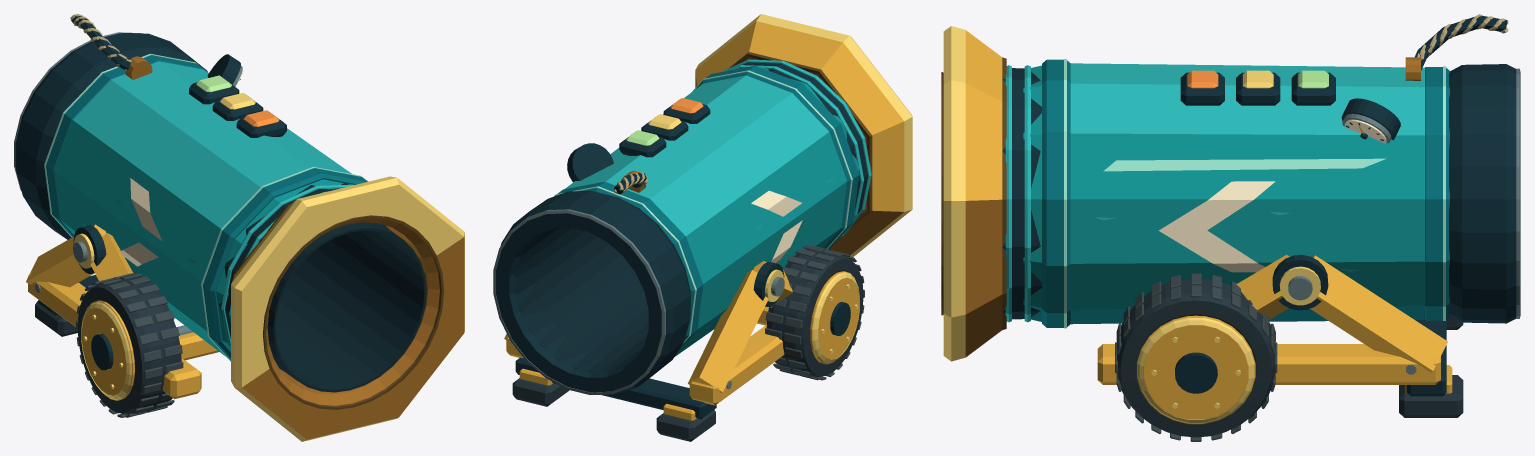
Rendered from ball-cannon.glb.
3 renders of one model, left to right at view 1: azimuth 30°, elevation 25°; view 2: azimuth 150°, elevation 25°; view 3: azimuth 270°, elevation 25°, orthographic. The views are drawn at different scales.
Visible parts, largest first — view 1: barrel_recoil_mesh, wheel_left_mesh, chassis_mesh, pressure_gauge_mesh; view 2: barrel_recoil_mesh, chassis_mesh, wheel_left_mesh, pressure_gauge_mesh; view 3: barrel_recoil_mesh, wheel_right_mesh, chassis_mesh, pressure_gauge_mesh, indicator_2, indicator_0, indicator_1.
Part boxes in pixels (box(x1,y1,x2,y2)): barrel_recoil_mesh: box(14, 14, 464, 441); wheel_left_mesh: box(76, 273, 183, 417); chassis_mesh: box(26, 224, 218, 399); pressure_gauge_mesh: box(207, 54, 242, 86); barrel_recoil_mesh: box(493, 14, 912, 394); chassis_mesh: box(504, 261, 792, 441); wheel_left_mesh: box(765, 245, 864, 380); pressure_gauge_mesh: box(567, 143, 613, 182); barrel_recoil_mesh: box(941, 14, 1520, 361); wheel_right_mesh: box(1115, 273, 1277, 441); chassis_mesh: box(1097, 255, 1463, 417); pressure_gauge_mesh: box(1341, 98, 1400, 143); indicator_2: box(1187, 70, 1218, 88); indicator_0: box(1298, 70, 1328, 88); indicator_1: box(1243, 70, 1273, 88).
Size of the model in its own units: 1.76 by 1.63 by 2.61.
